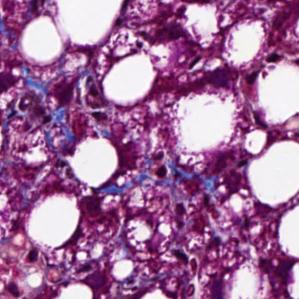inflammation: (24, 69, 101, 124), (165, 188, 222, 230), (158, 247, 209, 279)
